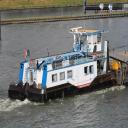tugboat: (9, 27, 121, 106)
